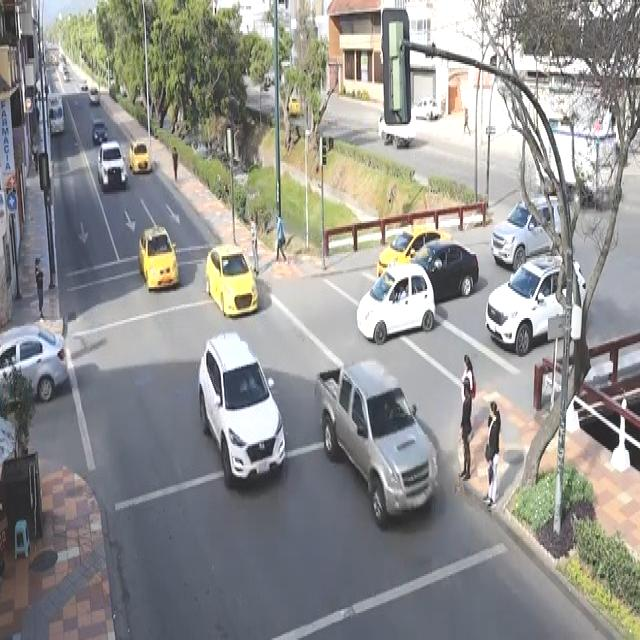CMT: (314, 365, 438, 521)
